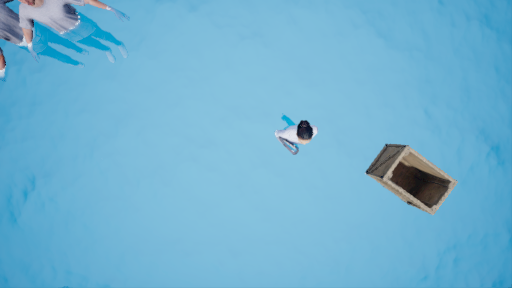person: (2, 1, 141, 70), (276, 118, 326, 159)
